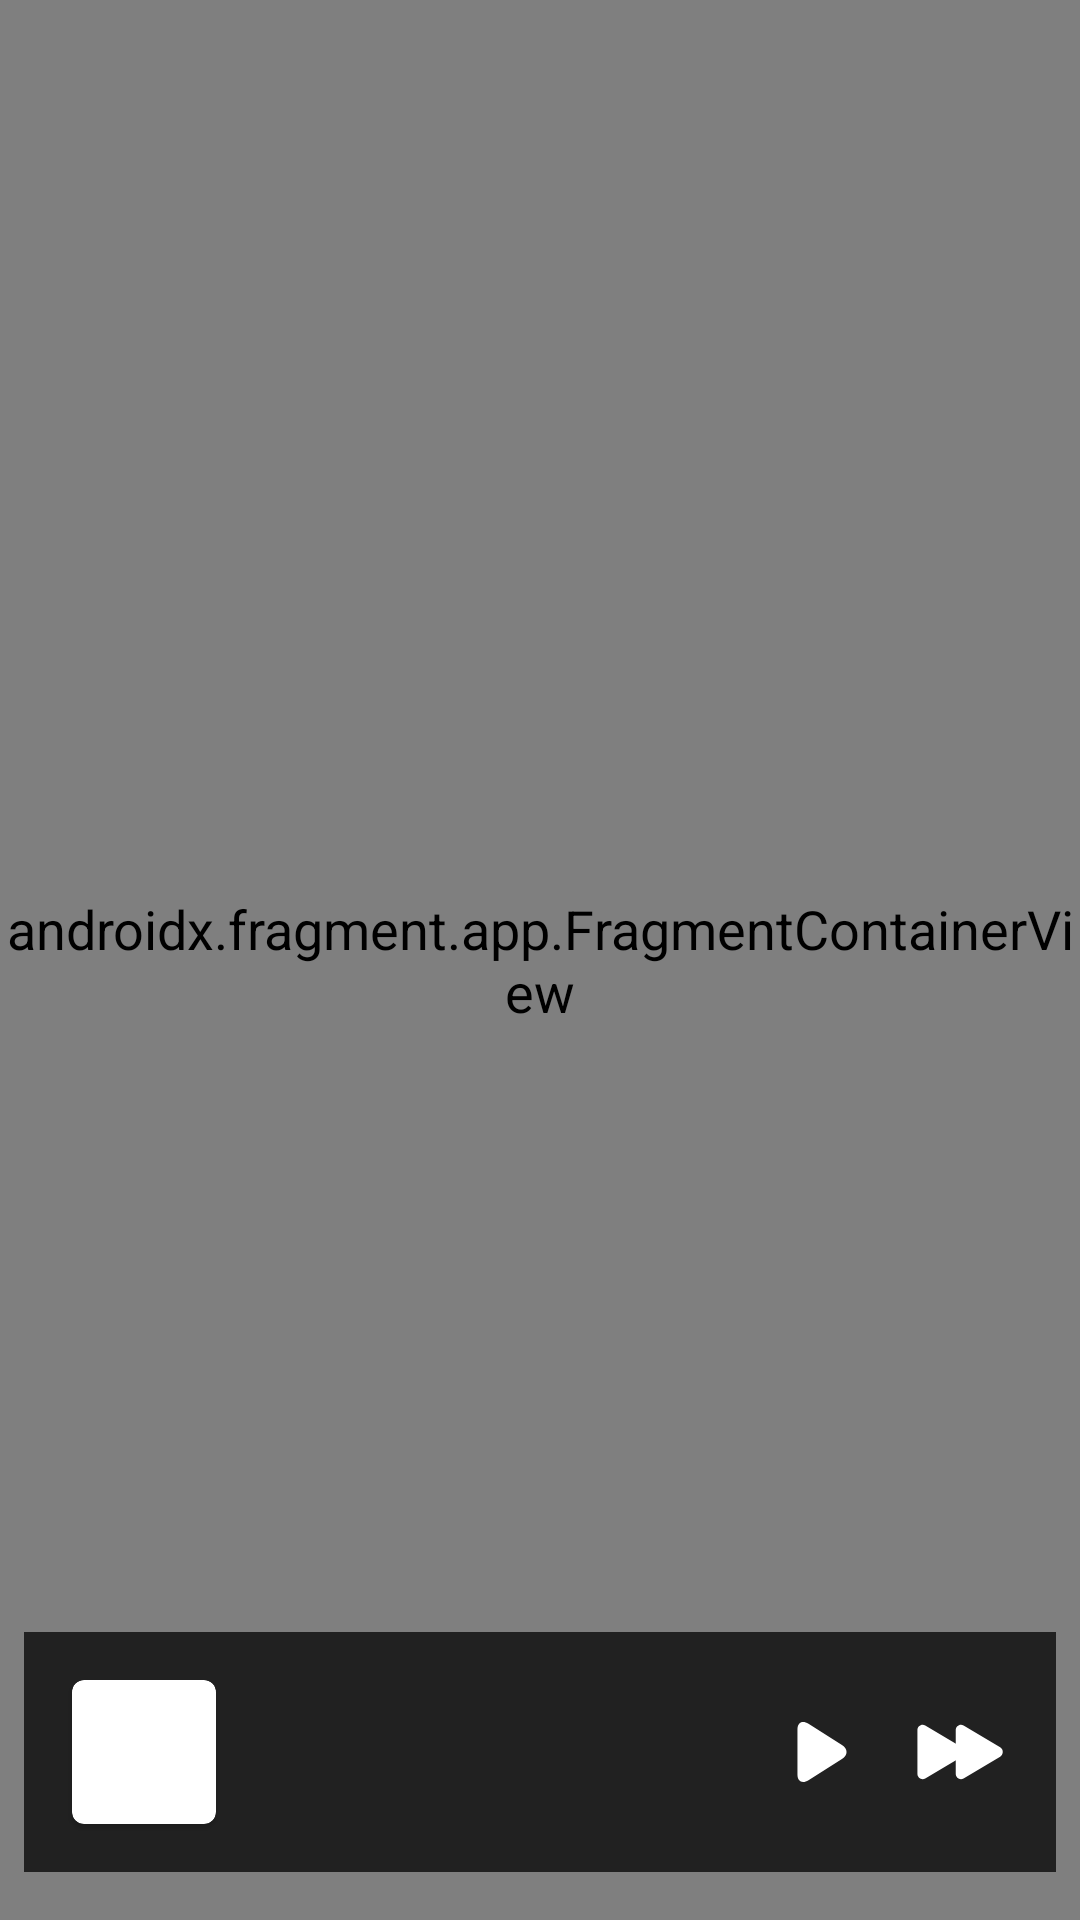

Named icons in this screenshot (1080 x 1920) and their centers, [x,y]:
next: [960,1752]
play: [822,1752]
